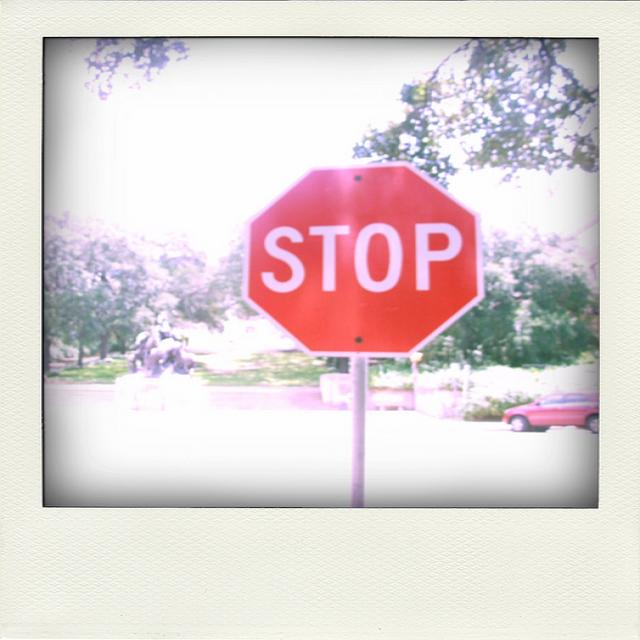Vehicle: (501, 392, 599, 433)
